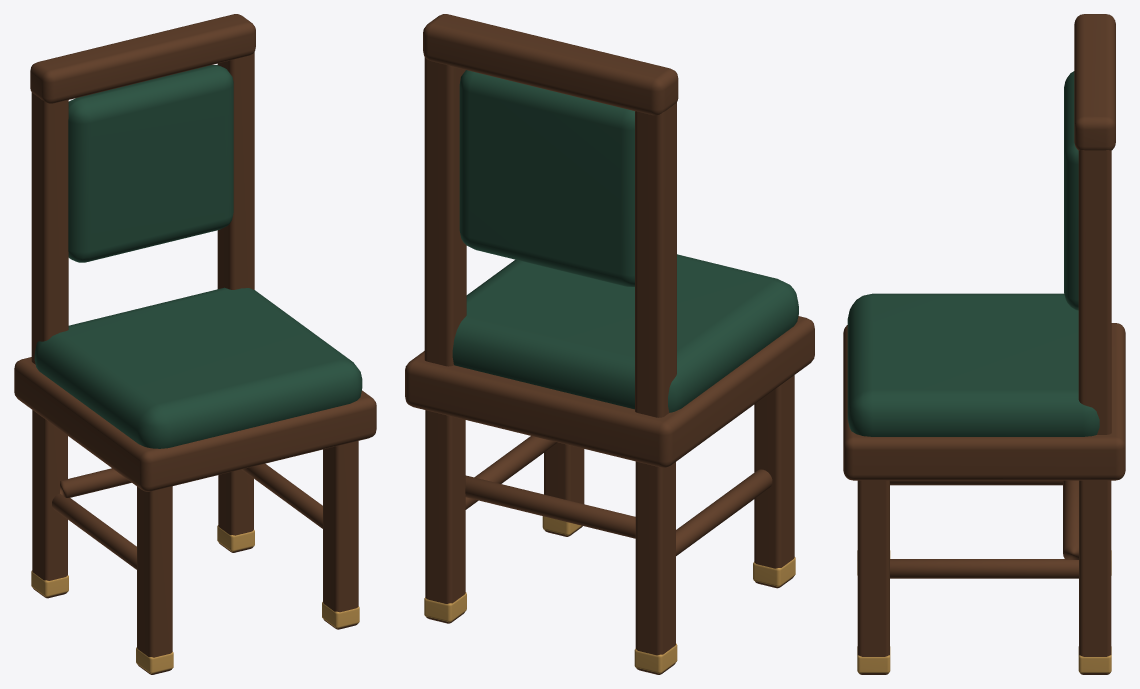
File: card_chair.glb
The picture shows the model from 3 angles, left to right: view 1: azimuth 30°, elevation 25°; view 2: azimuth 150°, elevation 25°; view 3: azimuth 270°, elevation 25°; orthographic projection. The views are drawn at different scales.
Visible parts, largest first — view 1: Padded green seat, Back cushion, Walnut seat frame, Top back rail, Back upright, Back upright.001, Chair leg, Chair leg.002, Chair leg.001, Chair leg.003, Side stretcher, Side stretcher.001 (+5 smaller); view 2: Padded green seat, Back cushion, Walnut seat frame, Top back rail, Back upright, Back upright.001, Chair leg.001, Chair leg.003, Chair leg, Cross stretcher, Side stretcher, Chair leg.002 (+4 smaller); view 3: Padded green seat, Walnut seat frame, Back upright.001, Chair leg.002, Chair leg.003, Top back rail, Side stretcher.001, Back cushion, Cross stretcher, Side stretcher, Brass chair foot.002, Brass chair foot.003.
Part boxes in pixels (x1,y1,x2,y2): Padded green seat: [34, 287, 362, 448]; Back cushion: [68, 65, 233, 262]; Walnut seat frame: [14, 357, 376, 491]; Top back rail: [30, 14, 255, 103]; Back upright: [31, 92, 68, 364]; Back upright.001: [217, 52, 254, 289]; Chair leg: [137, 486, 172, 674]; Chair leg.002: [323, 441, 358, 629]; Chair leg.001: [32, 410, 67, 598]; Chair leg.003: [218, 469, 253, 552]; Side stretcher: [52, 493, 136, 569]; Side stretcher.001: [241, 463, 322, 528]; Padded green seat: [452, 254, 798, 412]; Back cushion: [459, 70, 634, 286]; Walnut seat frame: [405, 316, 814, 467]; Top back rail: [423, 14, 678, 115]; Back upright: [635, 102, 676, 417]; Back upright.001: [424, 57, 466, 366]; Chair leg.001: [635, 461, 675, 674]; Chair leg.003: [425, 410, 465, 623]; Chair leg: [754, 375, 794, 588]; Cross stretcher: [465, 475, 635, 538]; Side stretcher: [676, 469, 772, 555]; Chair leg.002: [544, 442, 584, 536]; Padded green seat: [847, 293, 1099, 436]; Walnut seat frame: [843, 323, 1125, 480]; Back upright.001: [1078, 150, 1111, 434]; Chair leg.002: [857, 480, 889, 674]; Chair leg.003: [1079, 480, 1111, 674]; Top back rail: [1074, 14, 1115, 150]; Side stretcher.001: [890, 559, 1078, 578]; Back cushion: [1064, 71, 1078, 310]; Cross stretcher: [1063, 480, 1078, 559]; Side stretcher: [890, 480, 1062, 485]; Brass chair foot.002: [857, 646, 890, 673]; Brass chair foot.003: [1078, 646, 1111, 673].
Size of the model in its own units: 0.52 by 1.11 by 0.51.
